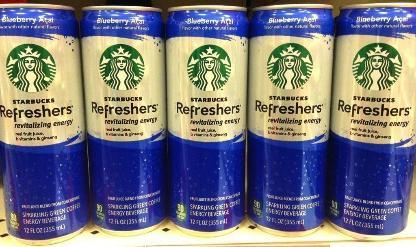Can: (247, 3, 335, 234), (0, 4, 84, 244), (332, 3, 416, 240), (81, 5, 167, 234), (166, 7, 248, 236)
